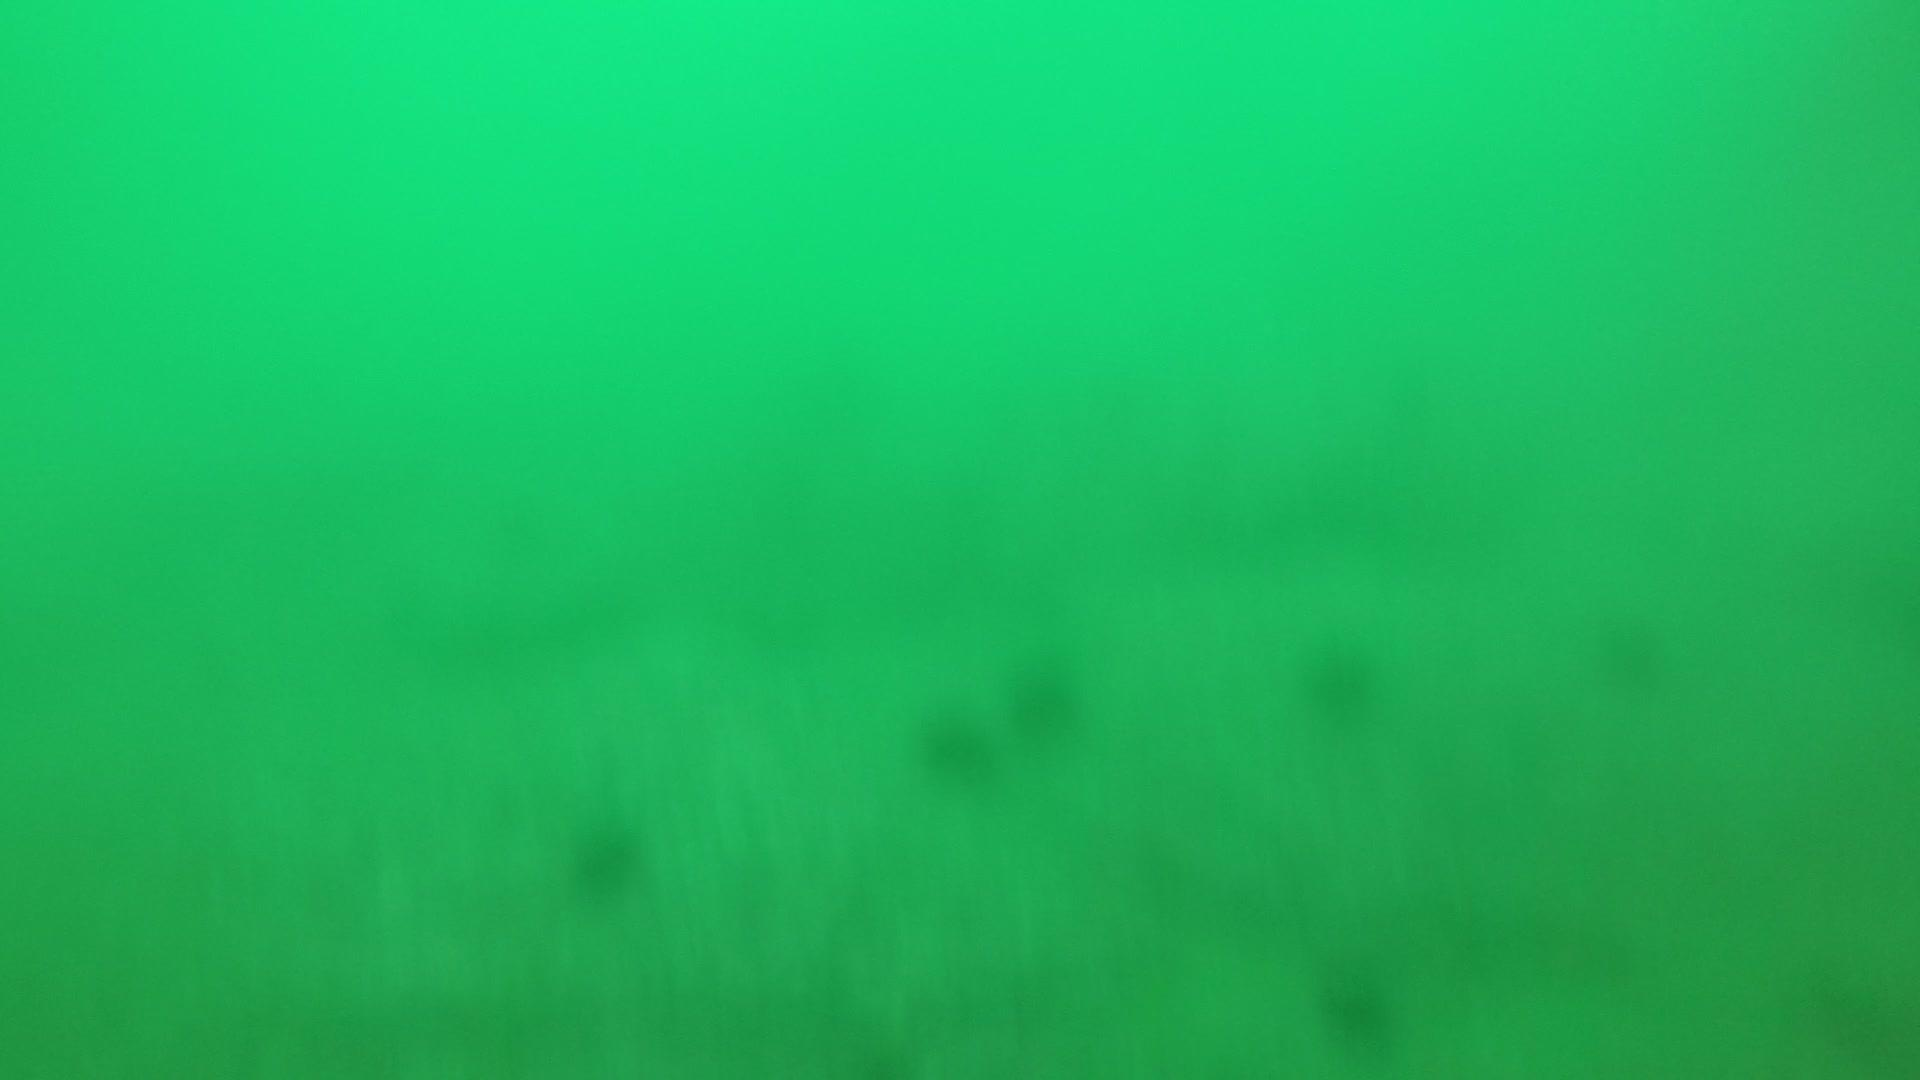echinus: (1294, 632, 1387, 724), (1311, 956, 1402, 1050), (562, 807, 651, 901), (1001, 647, 1089, 742), (1588, 605, 1675, 694), (911, 699, 998, 785)
